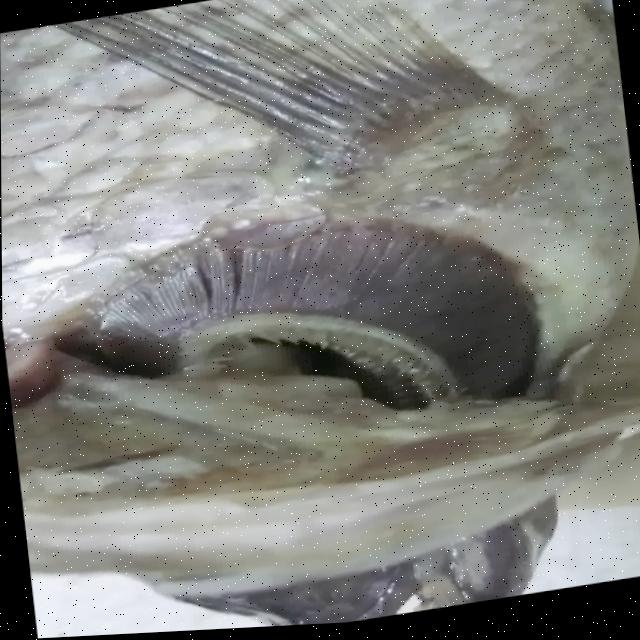Non-Fresh: (43, 182, 573, 452)
